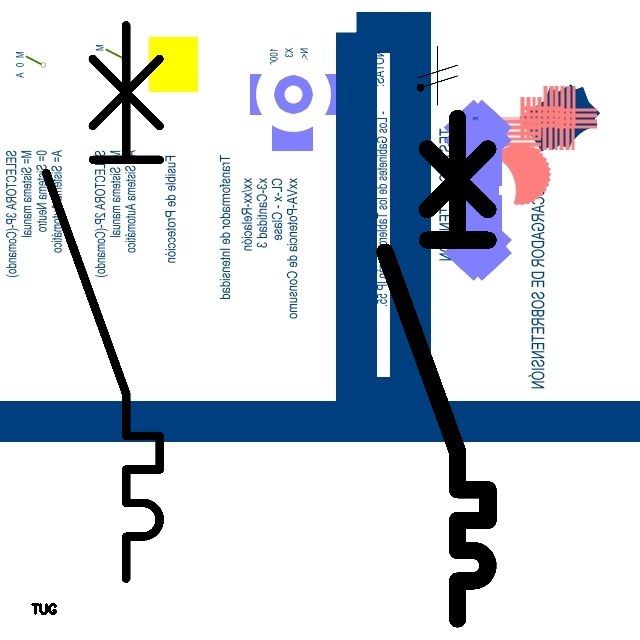interruptor_termomagnetico: (32, 11, 174, 593), (372, 105, 501, 631)
